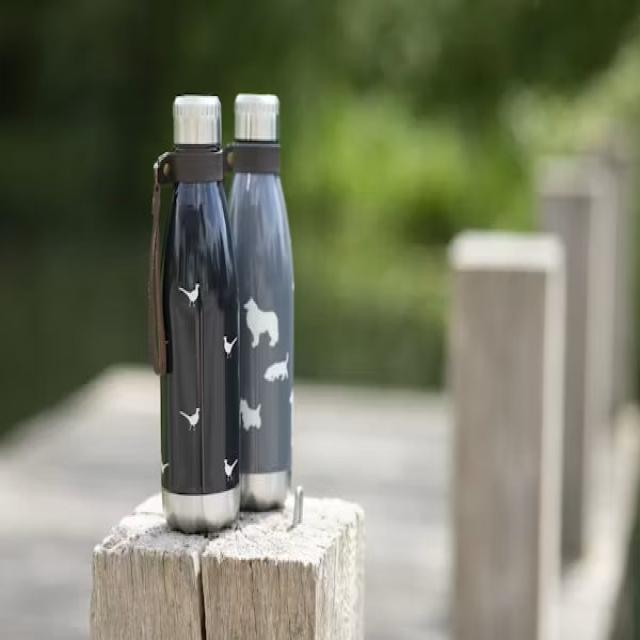Bottle: (150, 96, 239, 532), (230, 95, 294, 510)
